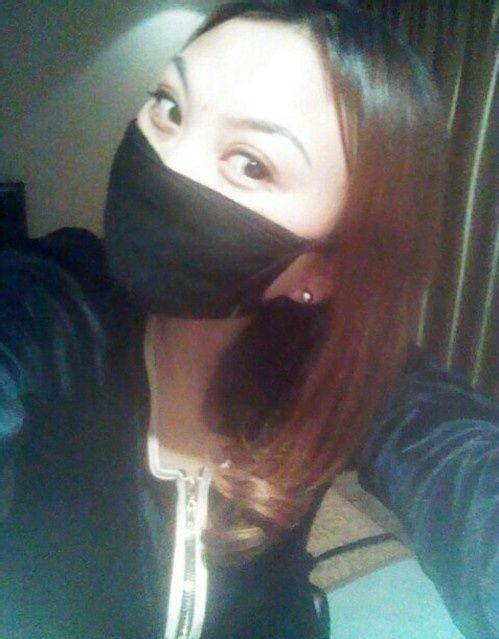OK: (108, 53, 323, 317)
